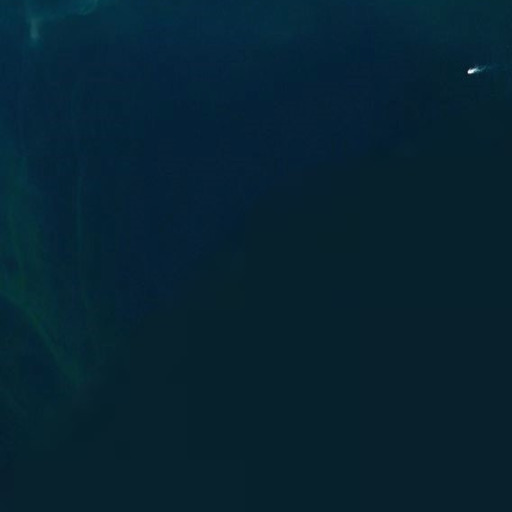ship: (465, 66, 480, 75)
